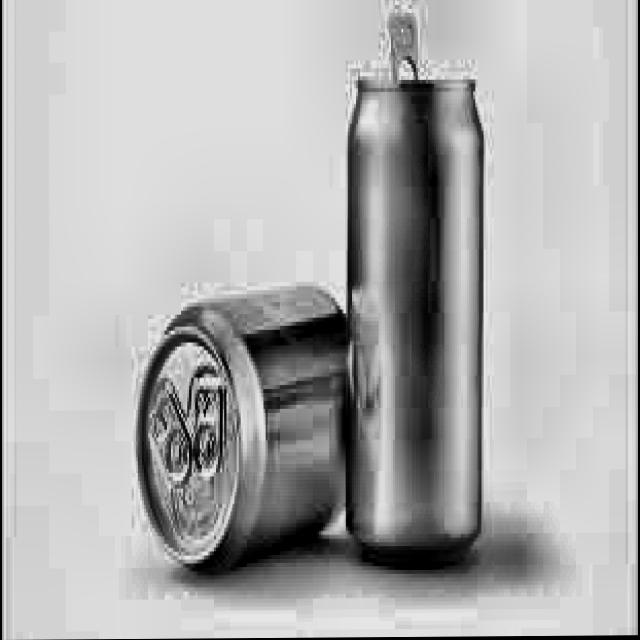can: (343, 6, 492, 578), (132, 267, 356, 585)
